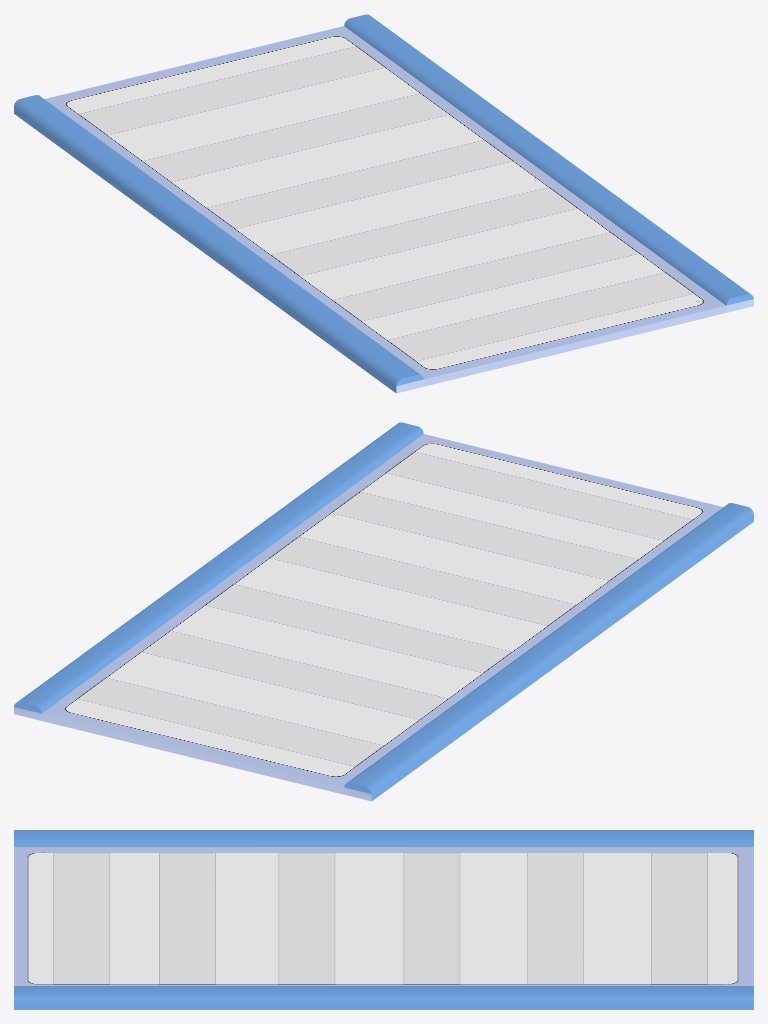
Rendered from Path_0.2.fbx.
3 renders of one model, top to bottom at view 1: azimuth 30°, elevation 25°; view 2: azimuth 150°, elevation 25°; view 3: azimuth 270°, elevation 25°, orthographic. The views are drawn at different scales.
Parts seen in each view (by area): view 1: Path_02; view 2: Path_02; view 3: Path_02.
Part boxes in pixels (x1,y1,x2,y2): Path_02: (14, 14, 753, 393); Path_02: (14, 422, 753, 801); Path_02: (14, 830, 753, 1009).
Bounding box in the file's own units: 675 × 24.15 × 1249.
